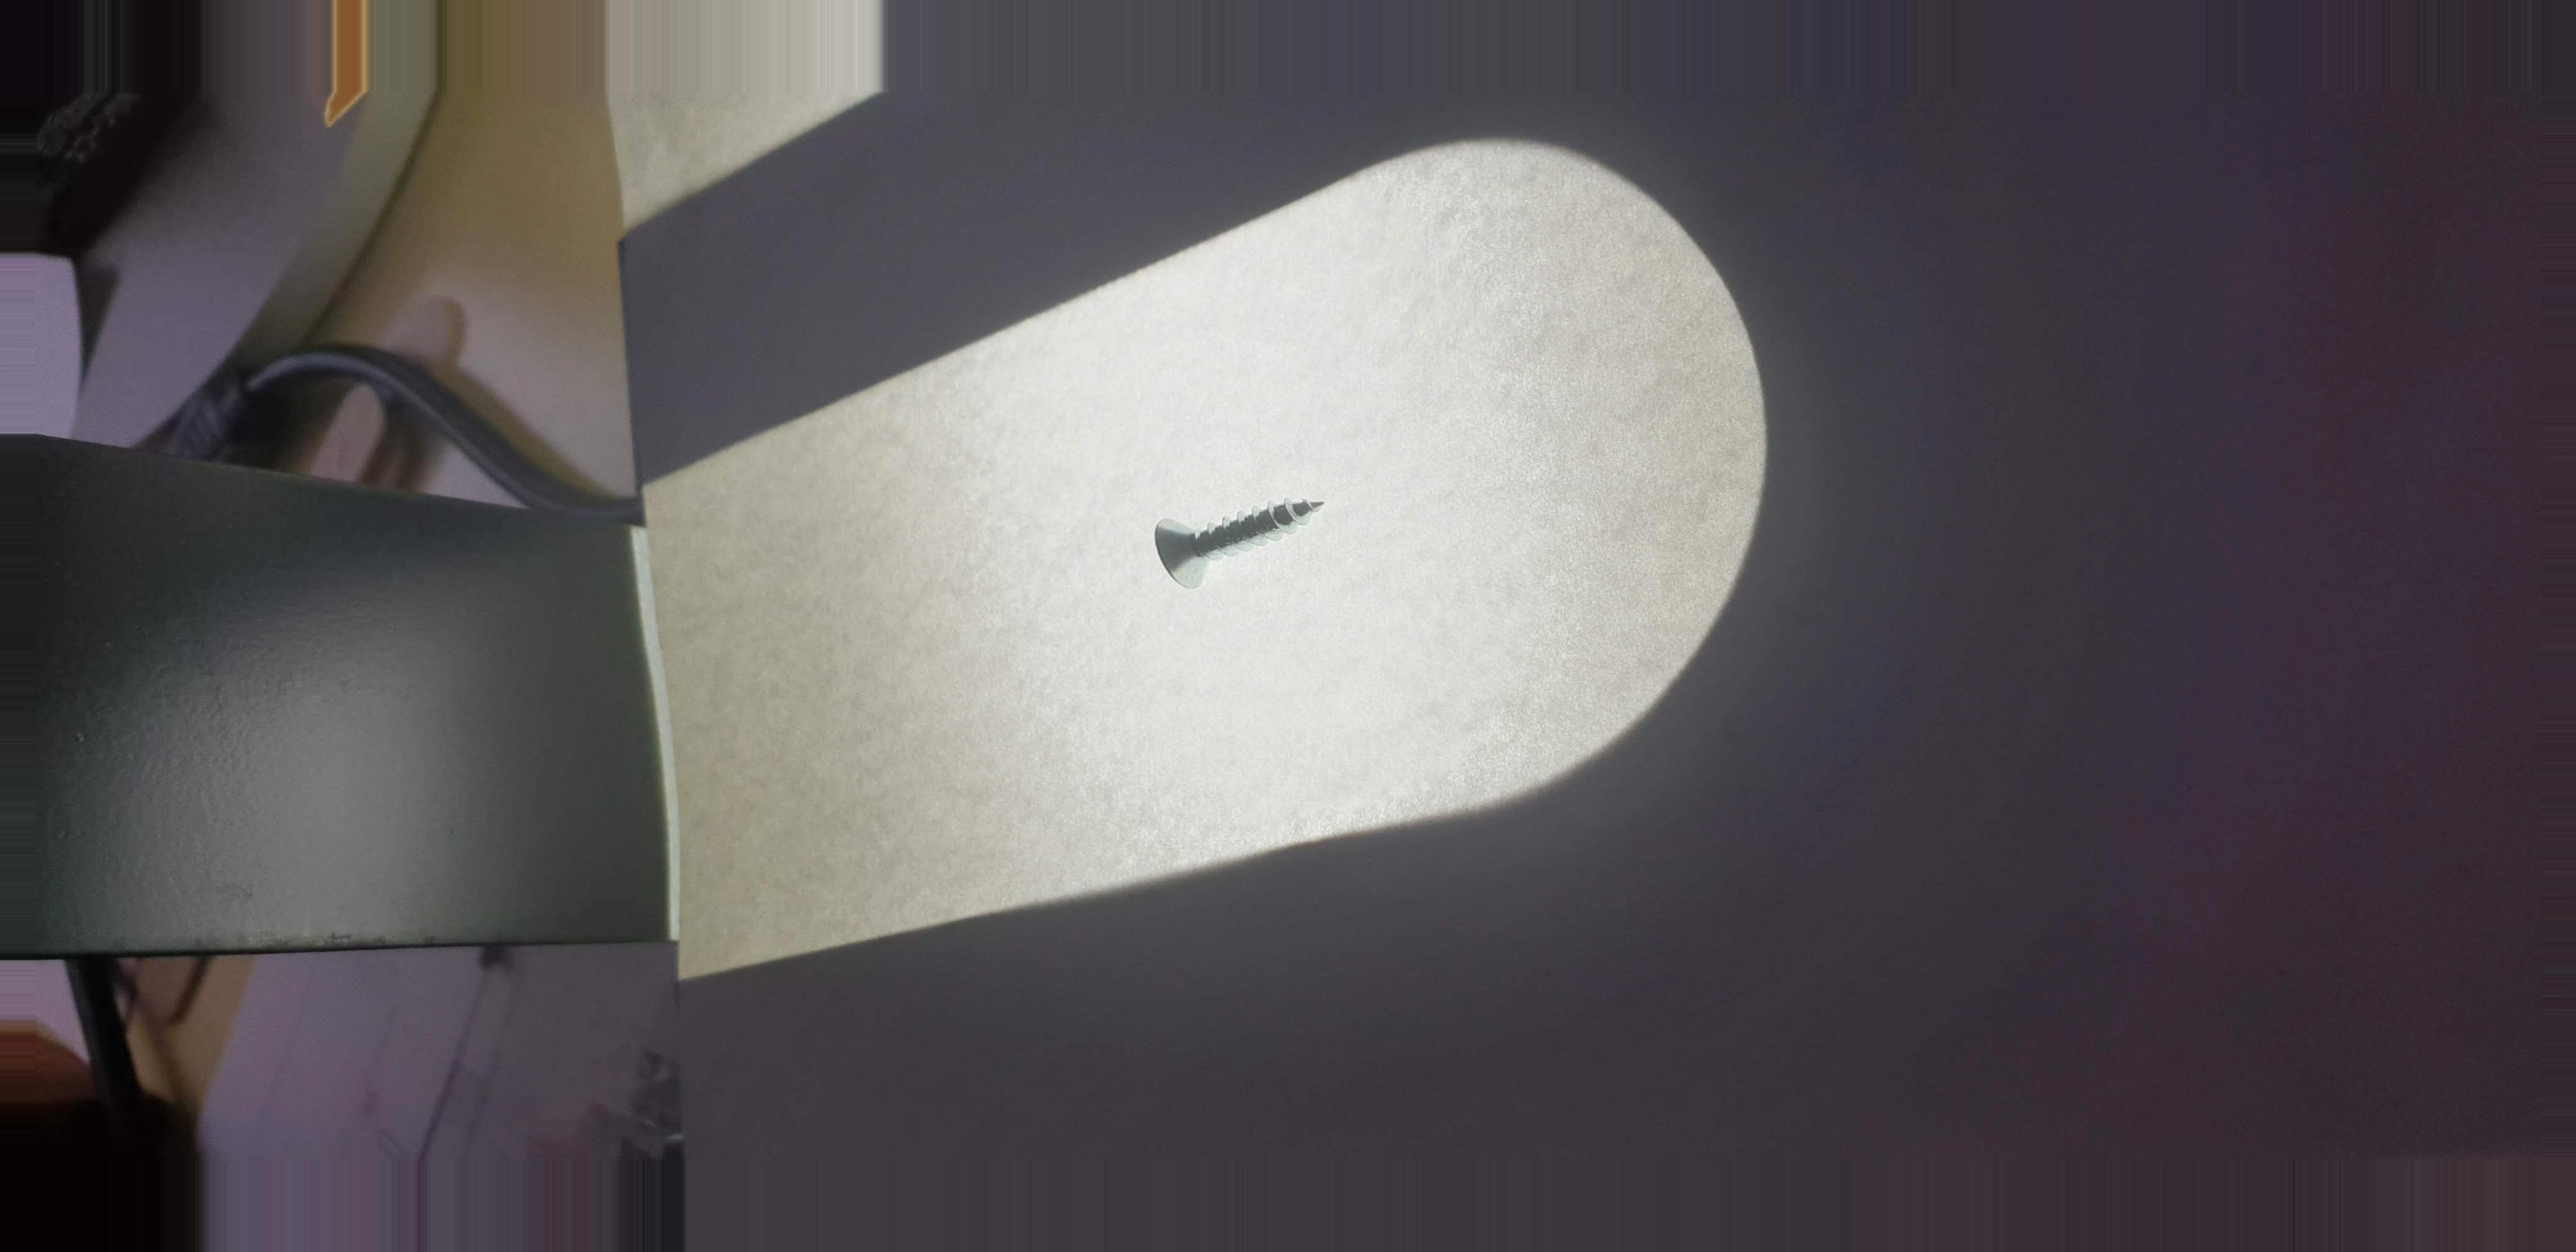S003: (1120, 473, 1360, 610)
